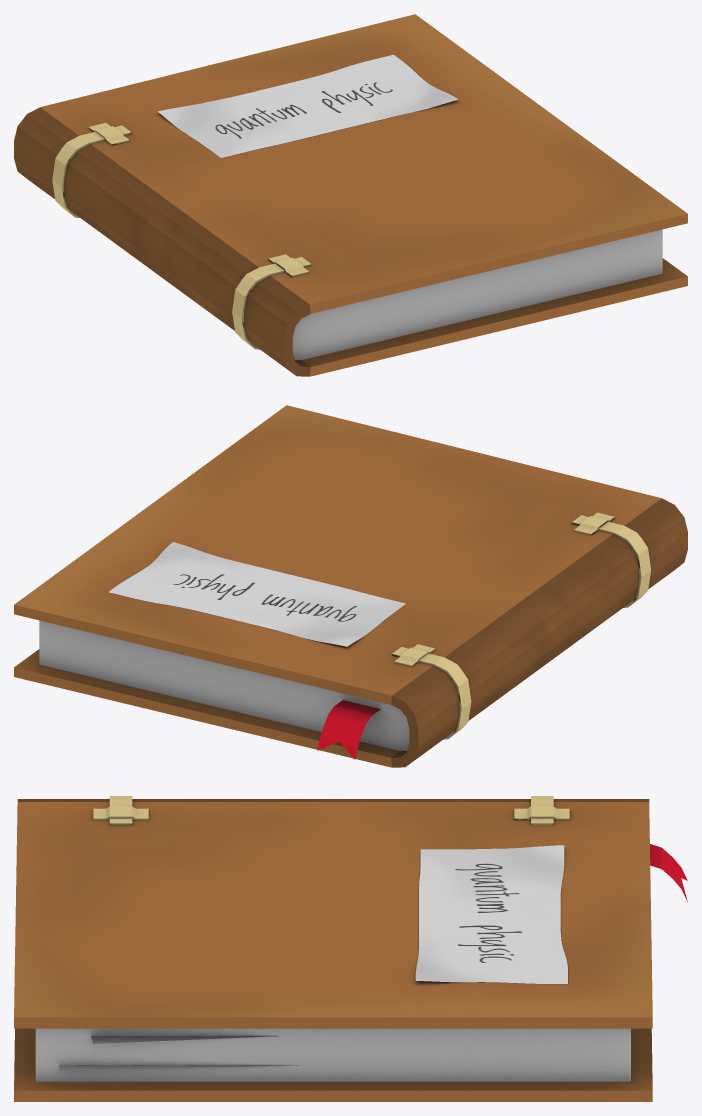
The picture shows the model from 3 angles, top to bottom: view 1: azimuth 30°, elevation 25°; view 2: azimuth 150°, elevation 25°; view 3: azimuth 270°, elevation 25°; orthographic projection. The views are drawn at different scales.
Visible parts, largest first — view 1: Plane.009; view 2: Plane.009; view 3: Plane.009.
Boxes of the visible parts, box(x1,y1,x2,y2) form: Plane.009: box(14, 14, 687, 376); Plane.009: box(14, 405, 687, 767); Plane.009: box(14, 796, 687, 1101).
Size of the model in its own units: 2.11 by 0.3926 by 2.59.
1 material, 1 textured.
